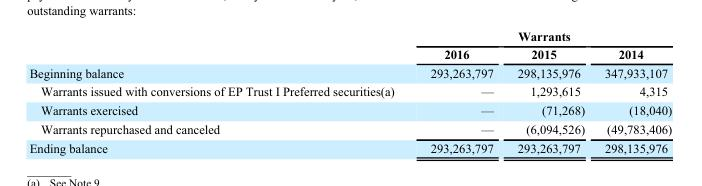table: (28, 28, 671, 154)
table column: (28, 28, 411, 154), (411, 28, 504, 154), (504, 28, 594, 154), (594, 28, 671, 154)
table column header: (28, 28, 671, 62)
table row: (28, 62, 671, 81), (28, 81, 671, 100), (28, 100, 671, 119), (28, 119, 671, 138), (28, 44, 671, 62), (28, 28, 671, 44), (28, 138, 671, 154)
table spanning cell: (411, 28, 671, 44)
